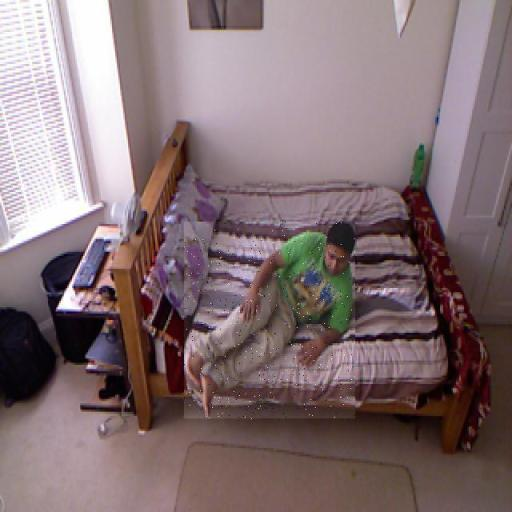Fall: (184, 222, 355, 421)
